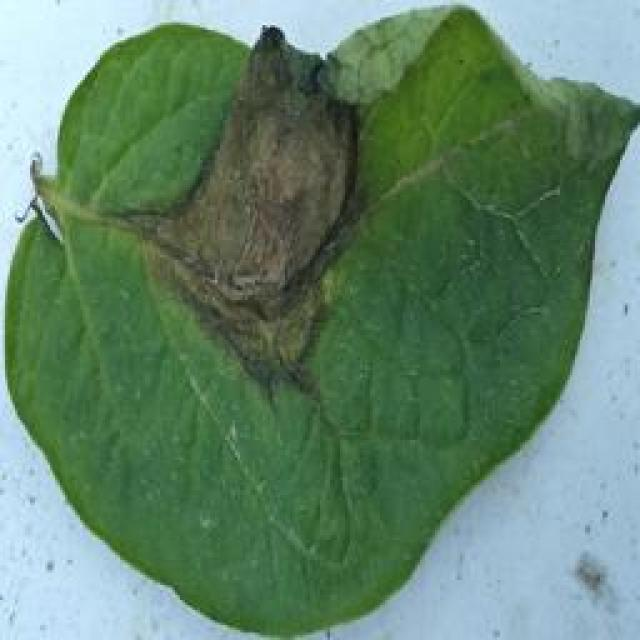Potato_Late_Blight: (7, 12, 632, 638)
